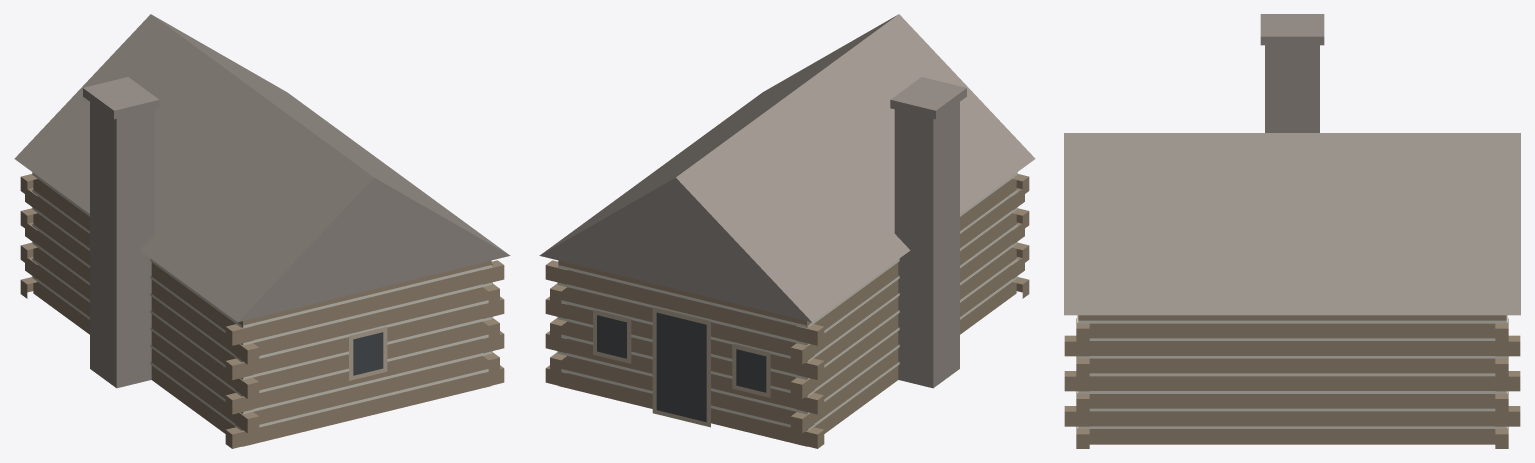
Rendered from recon_1835_south_d1_033__inferred_1835.glb.
3 views of the same model, side by side, from view 1: azimuth 30°, elevation 25°; view 2: azimuth 150°, elevation 25°; view 3: azimuth 270°, elevation 25° (orthographic). The views are drawn at different scales.
Parts seen in each view (by area): view 1: recon_1835_south_d1_033__inferred_1835; view 2: recon_1835_south_d1_033__inferred_1835; view 3: recon_1835_south_d1_033__inferred_1835.
Part boxes in pixels (x1,y1,x2,y2): recon_1835_south_d1_033__inferred_1835: [14, 14, 510, 448]; recon_1835_south_d1_033__inferred_1835: [539, 14, 1035, 448]; recon_1835_south_d1_033__inferred_1835: [1064, 14, 1520, 448].
Bounding box in the file's own units: 6.22 × 5.61 × 8.01.
